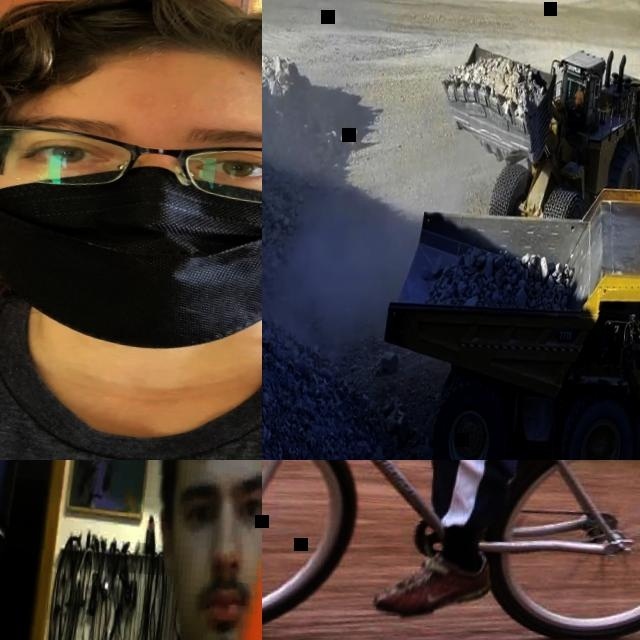Mask: (0, 156, 262, 360)
NO-Hardhat: (0, 0, 262, 129)
NO-Mask: (182, 566, 255, 640)
NO-Safety Vest: (0, 296, 262, 460), (574, 92, 583, 108)
Person: (0, 0, 262, 460), (262, 460, 640, 637), (67, 460, 262, 640), (571, 85, 585, 107)
Safety Cone: (151, 460, 262, 640)
machinery: (366, 158, 640, 460), (431, 31, 640, 226)
